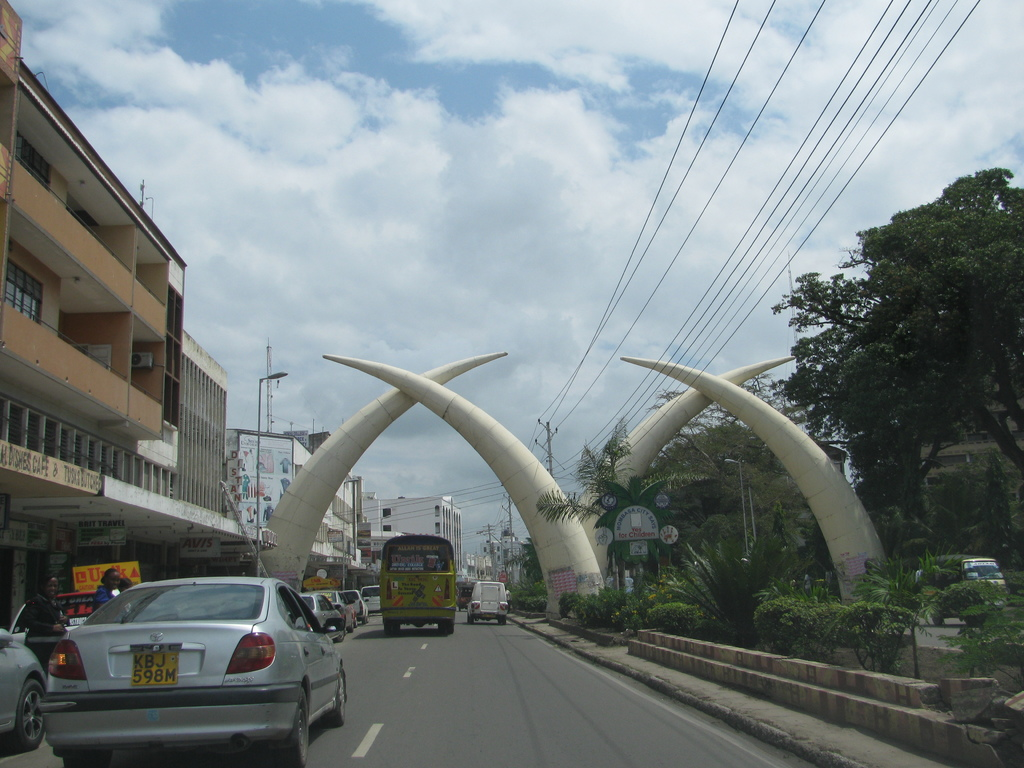mobil: (48, 575, 341, 761)
